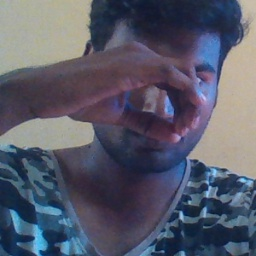O: (67, 37, 213, 147)
